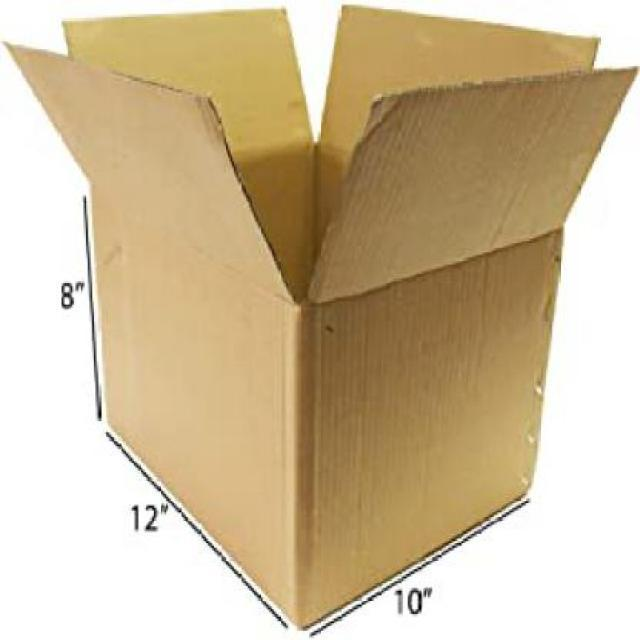box: (21, 21, 604, 628)
